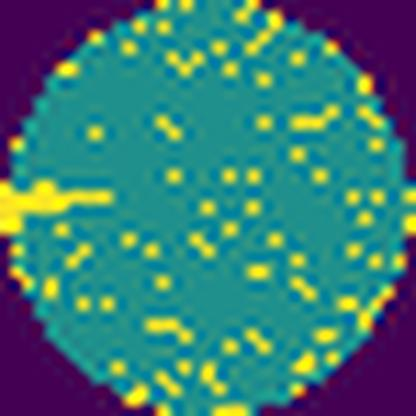Loc: (0, 183, 115, 232)
